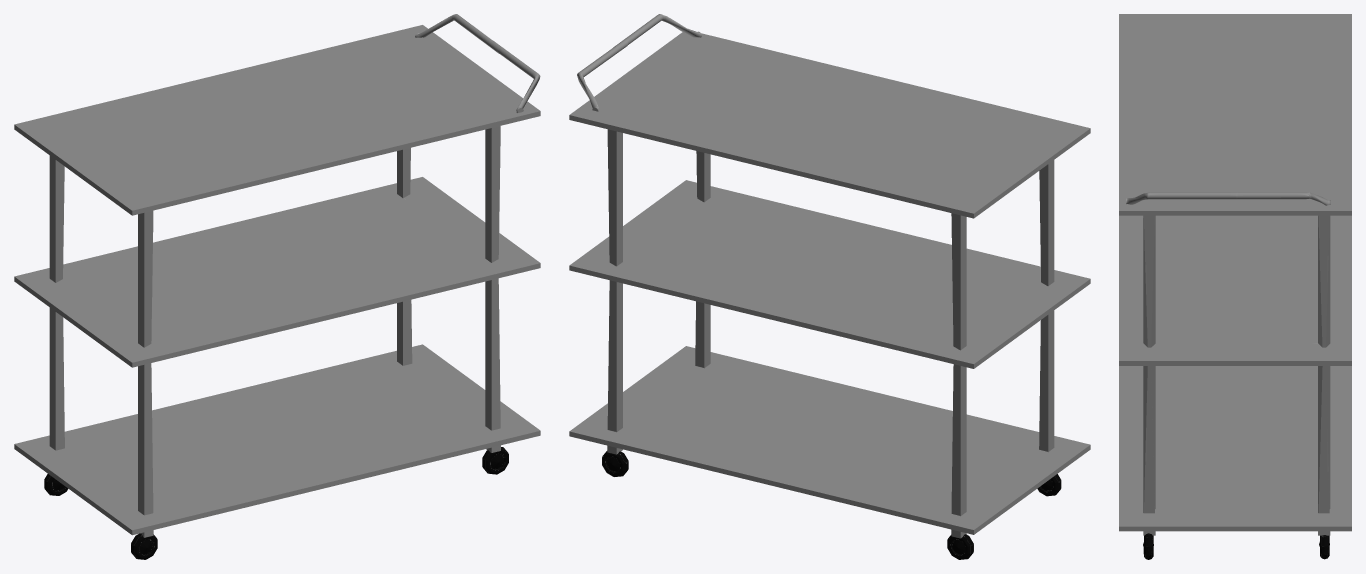
The model's file is cart.fbx.
3 renders of one model, left to right at view 1: azimuth 30°, elevation 25°; view 2: azimuth 150°, elevation 25°; view 3: azimuth 270°, elevation 25°, orthographic.
Visible parts, largest first — view 1: Cart, Wheels; view 2: Cart, Wheels; view 3: Cart, Wheels.
Part boxes in pixels (x1=…): Cart: x1=14, y1=14, x2=540, y2=537; Wheels: x1=44, y1=447, x2=508, y2=559; Cart: x1=569, y1=14, x2=1090, y2=538; Wheels: x1=602, y1=451, x2=1061, y2=559; Cart: x1=1119, y1=14, x2=1351, y2=535; Wheels: x1=1143, y1=533, x2=1329, y2=559.
Bounding box in the file's own units: 207 × 183 × 100.
2 materials, 2 textured.
